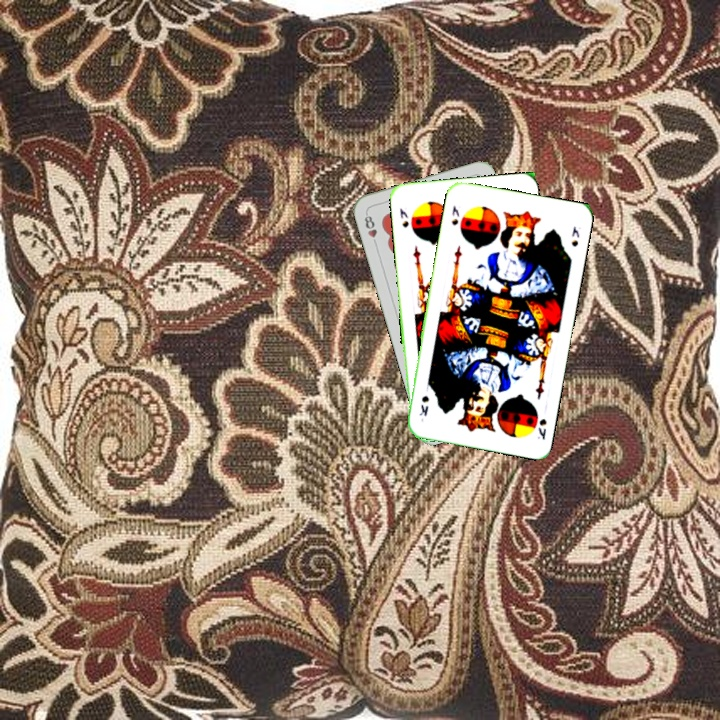H8: (360, 209, 380, 249)
SK: (533, 415, 549, 442), (396, 204, 411, 230), (448, 201, 462, 228)
